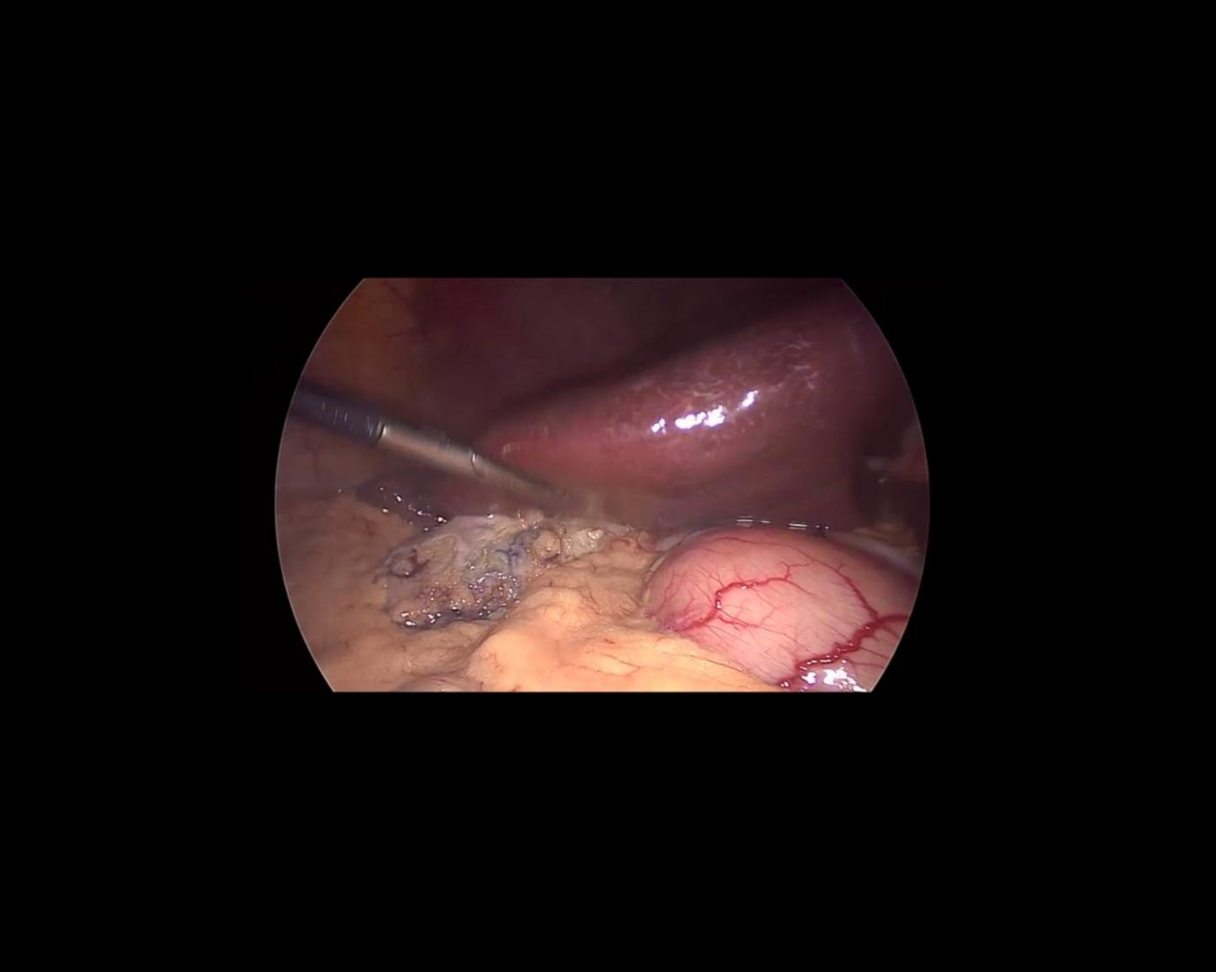Forceps: (286, 374, 574, 536)
Gallbladder: (379, 492, 663, 632)
Liver: (335, 270, 944, 659)
